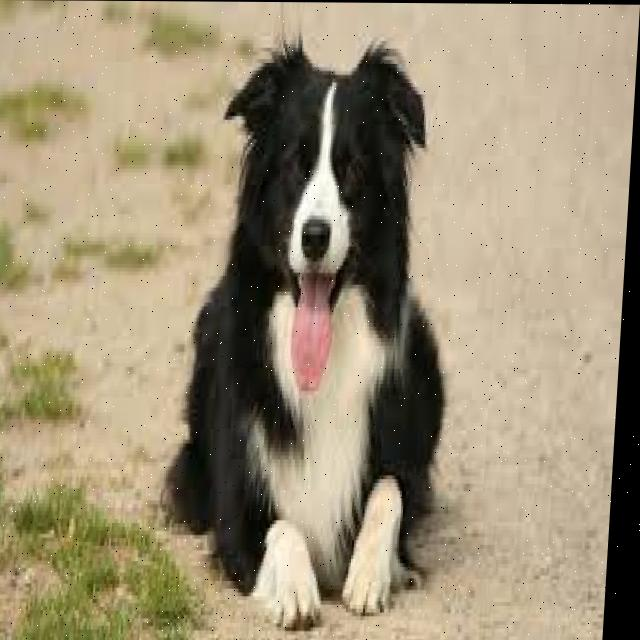BORDER_COLLIE: (156, 23, 484, 630)
